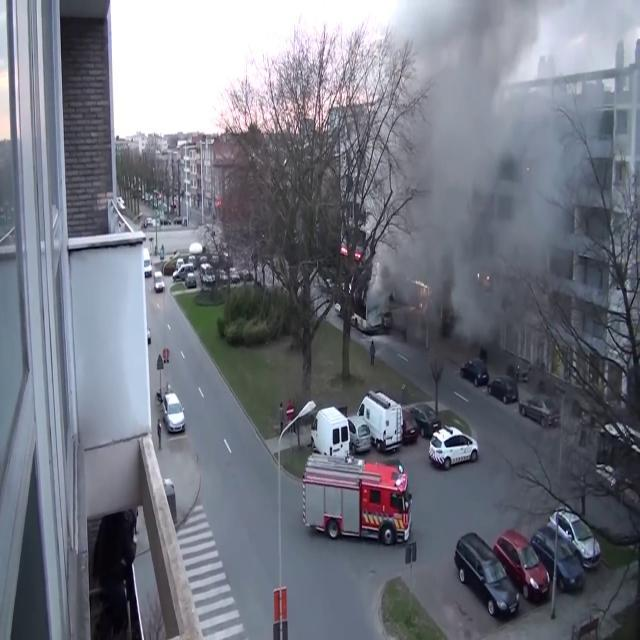Smoke: (377, 0, 589, 336)
